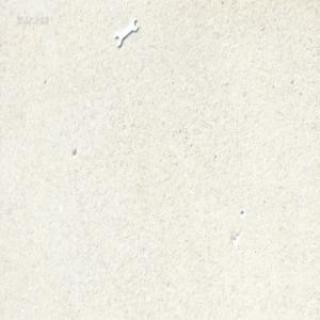Wrenchtrack_idkeyframe: (114, 17, 137, 47)
